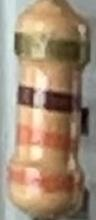Brown: (18, 85, 82, 113)
Orange: (16, 124, 79, 153), (8, 168, 83, 192)
Side-Gold: (15, 32, 89, 62)
